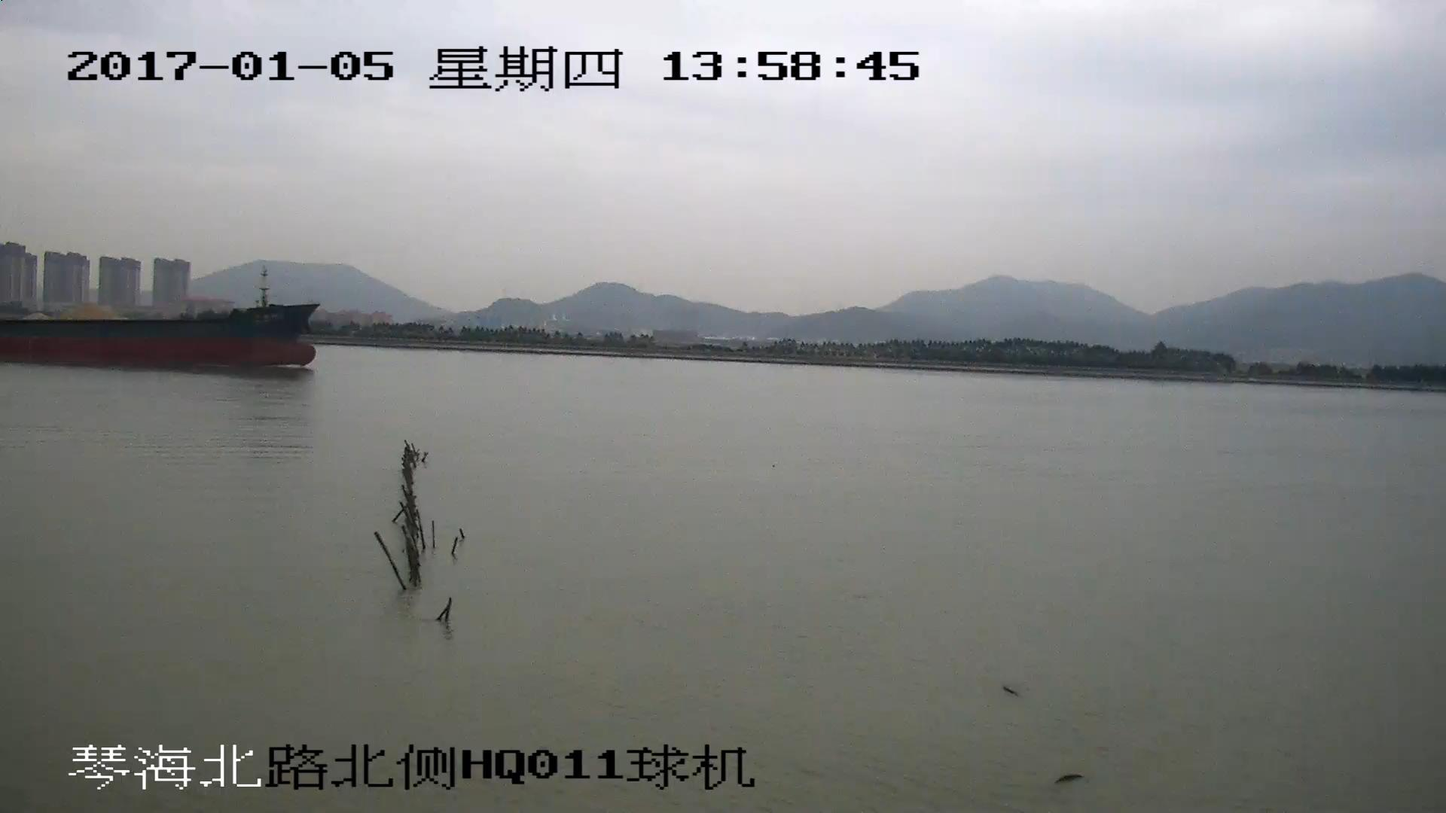general cargo ship: (0, 275, 318, 364)
